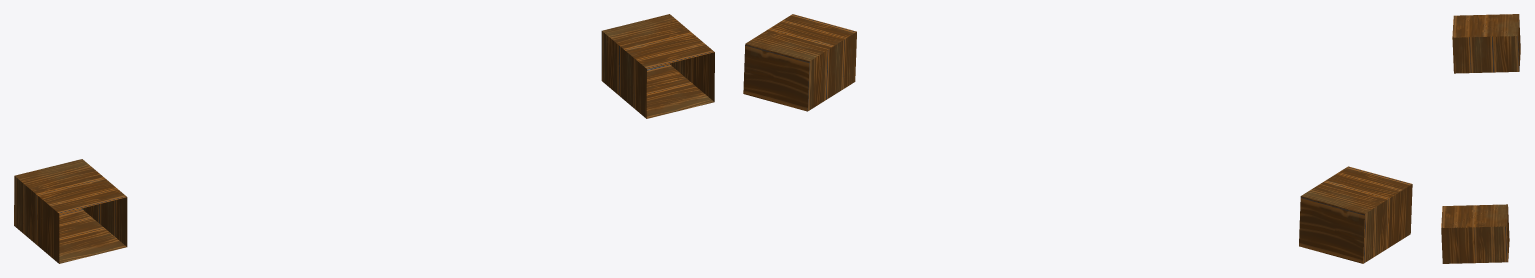
3 renders of one model, left to right at view 1: azimuth 30°, elevation 25°; view 2: azimuth 150°, elevation 25°; view 3: azimuth 270°, elevation 25°, orthographic. The views are drawn at different scales.
Visible parts, largest first — view 1: Cube.1985; view 2: Cube.1985; view 3: Cube.1985.
Part boxes in pixels (x1=…): Cube.1985: x1=14, y1=14, x2=714, y2=263; Cube.1985: x1=743, y1=14, x2=1412, y2=263; Cube.1985: x1=1441, y1=14, x2=1520, y2=263.
Bounding box in the file's own units: 667 × 63.75 × 102.
1 material, 1 textured.
